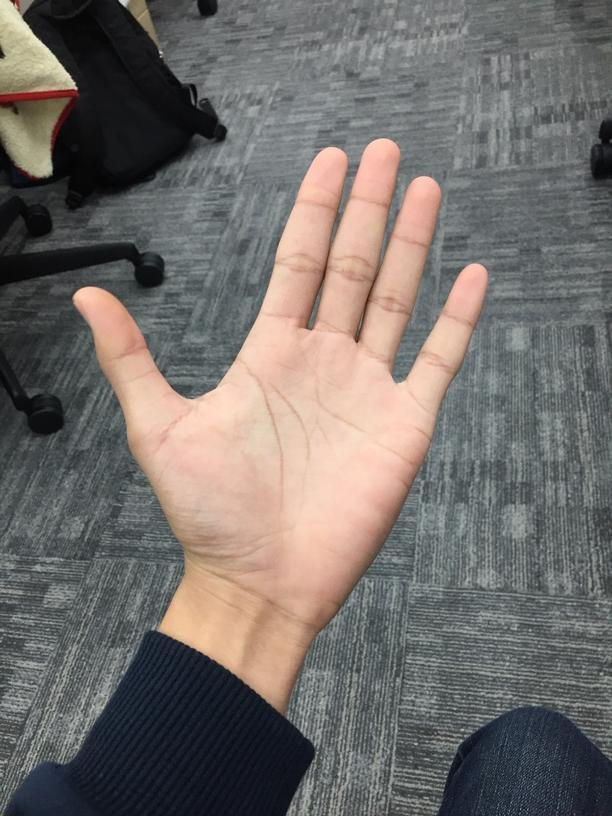hand: (66, 135, 488, 612)
